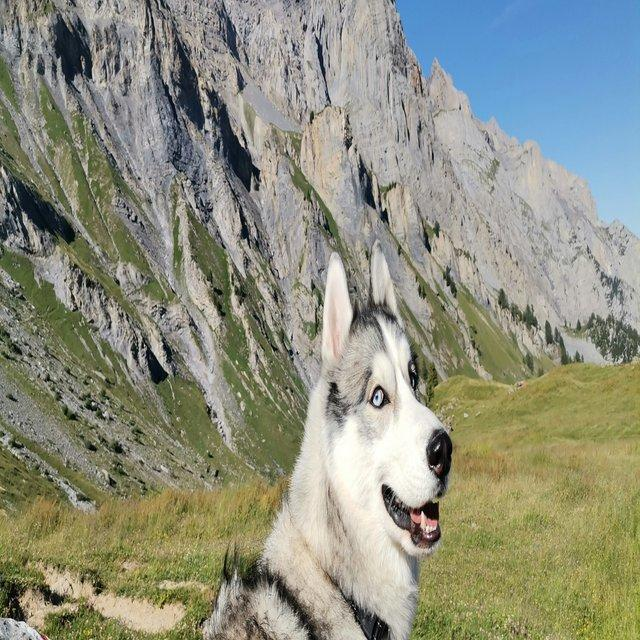husky: (199, 239, 453, 638)
